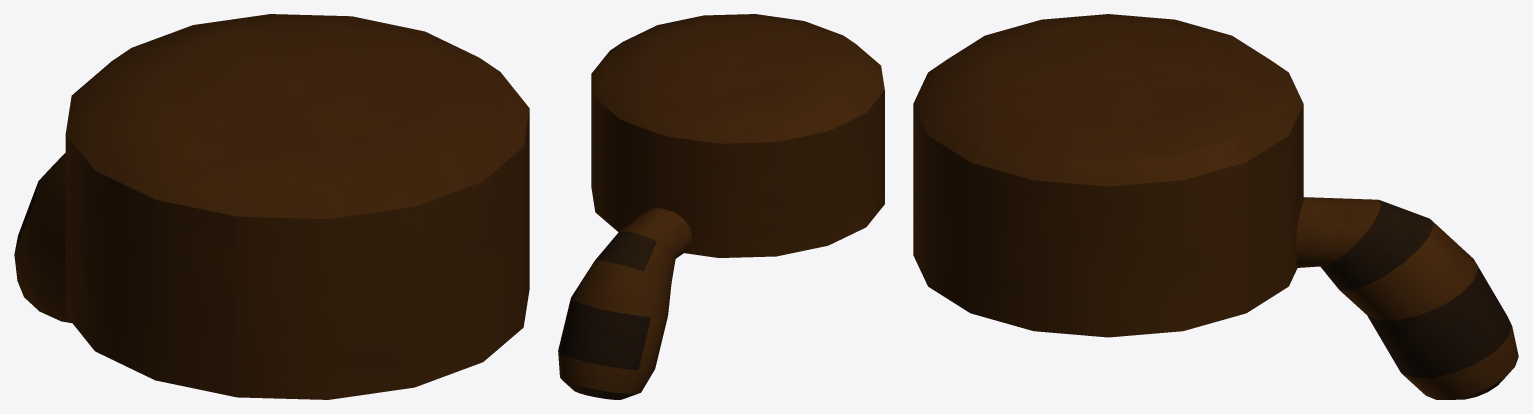
Rendered from ChapeuGuaxinim.fbx.
3 views of the same model, side by side, from view 1: azimuth 30°, elevation 25°; view 2: azimuth 150°, elevation 25°; view 3: azimuth 270°, elevation 25° (orthographic). The views are drawn at different scales.
Parts seen in each view (by area): view 1: ChapeuGuaxinim; view 2: ChapeuGuaxinim; view 3: ChapeuGuaxinim.
Part boxes in pixels (x1=…): ChapeuGuaxinim: x1=14, y1=14, x2=529, y2=399; ChapeuGuaxinim: x1=558, y1=14, x2=884, y2=399; ChapeuGuaxinim: x1=913, y1=14, x2=1518, y2=399.
Bounding box in the file's own units: 200 × 179 × 310.
